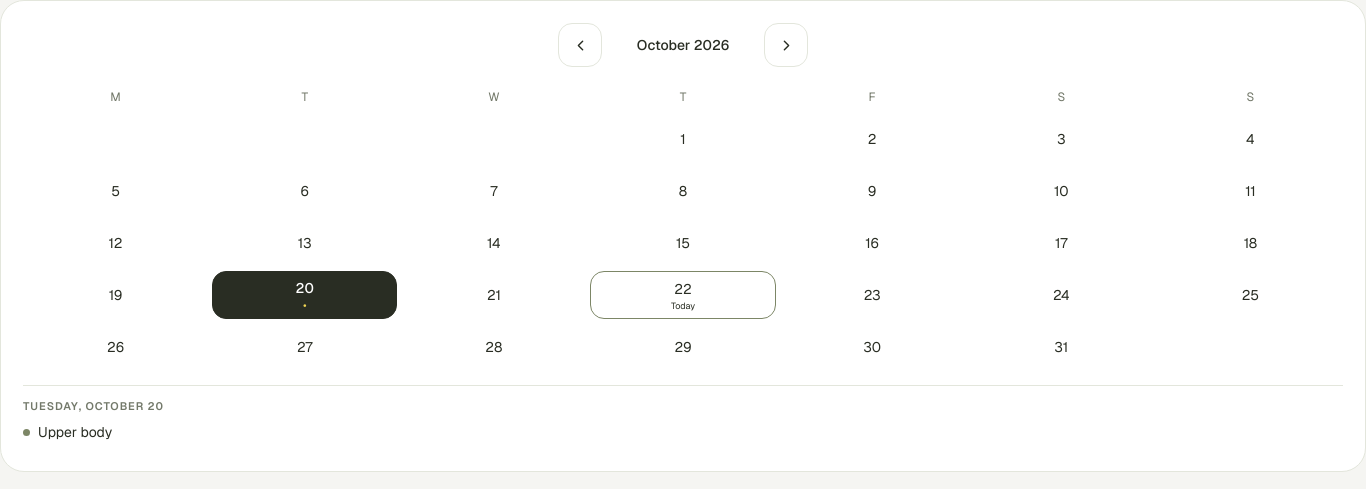
it: ProgressCalendar › marks today separately from the selected workout day
Step 1. Click the button with aria-label "October 22, 2026, Today" → {"x": 683, "y": 295}, box [590, 271, 776, 319]
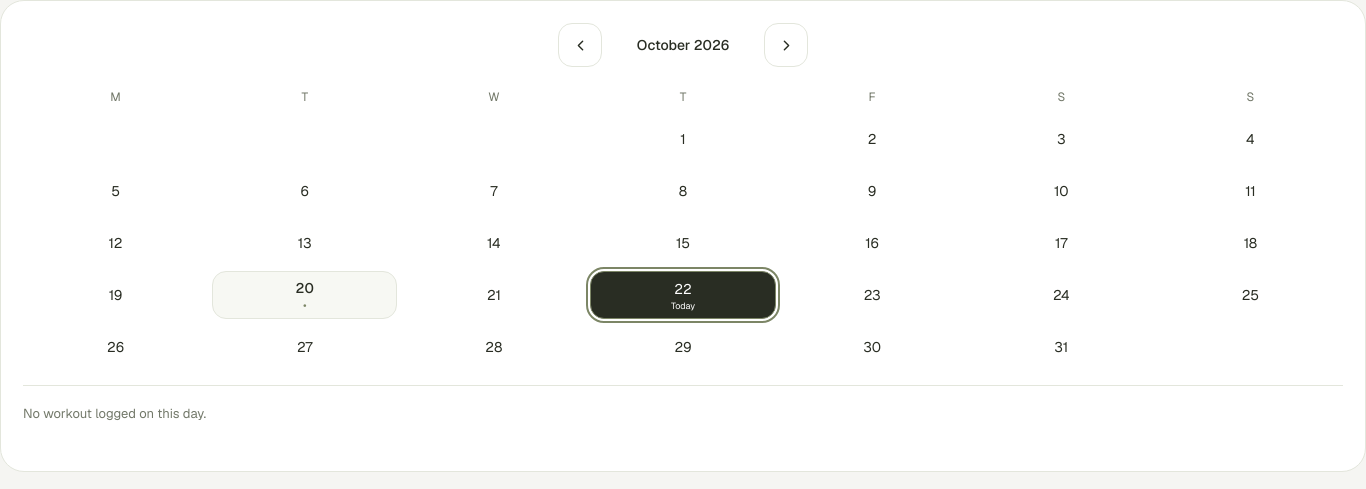
Expected: the button with aria-label "October 22, 2026, Today" is pressed, [590, 271, 776, 319]
Step 2. Click the button named "Previous month" → {"x": 580, "y": 45}, box [558, 23, 602, 67]
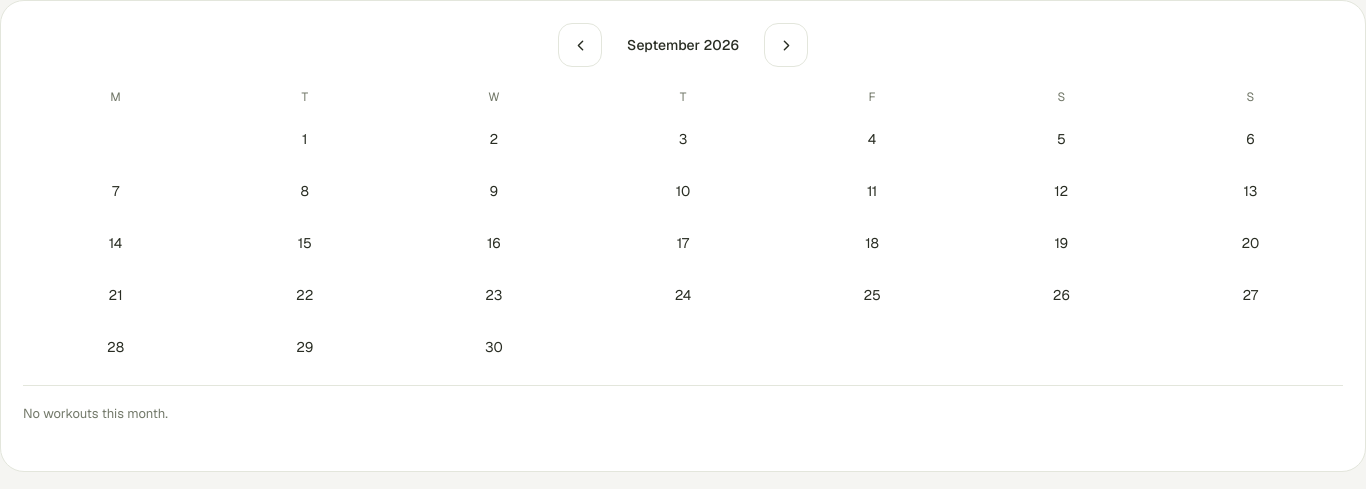
Expected: the button "Today" is gone
